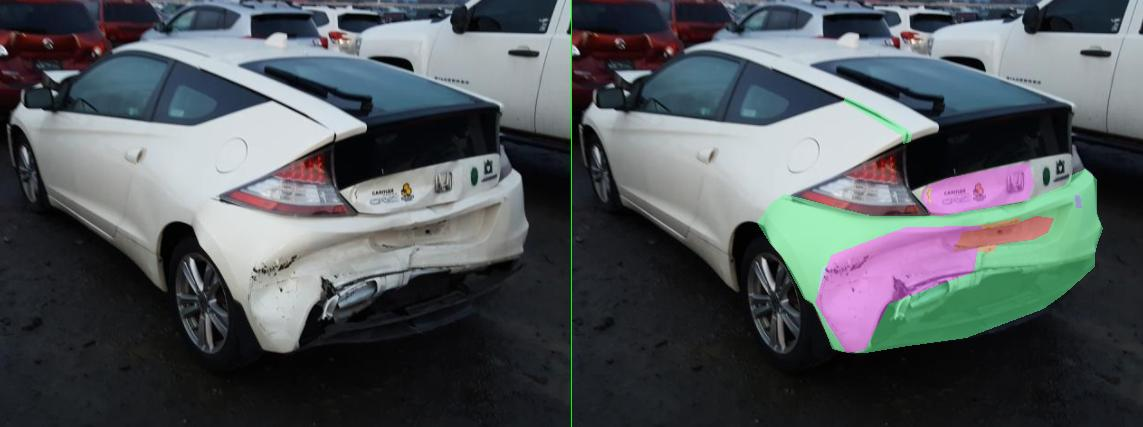Broken part: (370, 169, 1061, 352), (542, 97, 679, 143)
Corrosion: (490, 253, 603, 338)
Dent: (486, 226, 819, 352), (699, 163, 923, 215)
Missing part: (765, 216, 963, 250)
Paint chip: (787, 217, 899, 236), (737, 235, 851, 252), (709, 188, 719, 204), (663, 273, 681, 280)
Scratch: (1007, 195, 1019, 207)
